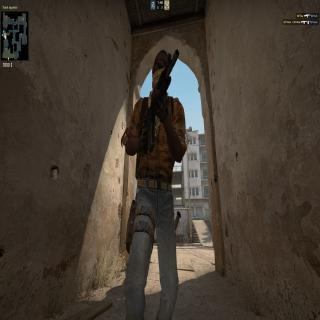T-Head: (149, 46, 175, 98)
